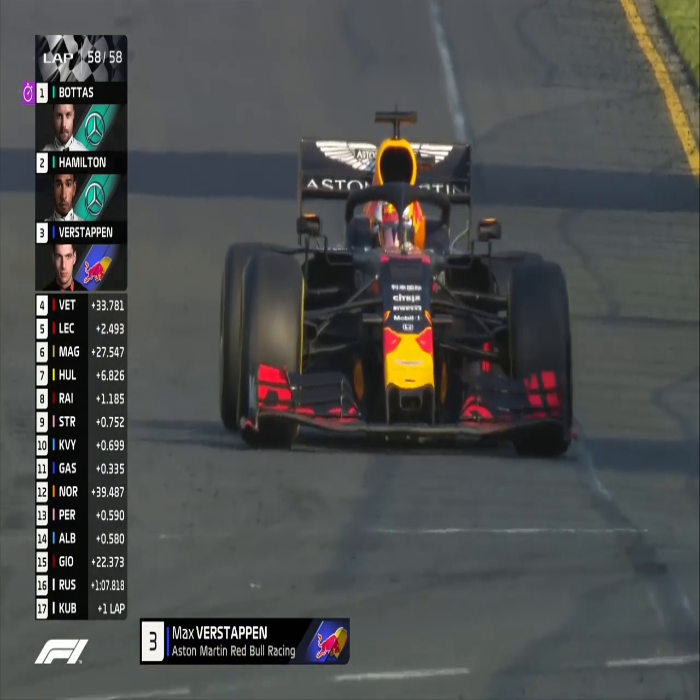f1_car: (217, 120, 598, 470)
